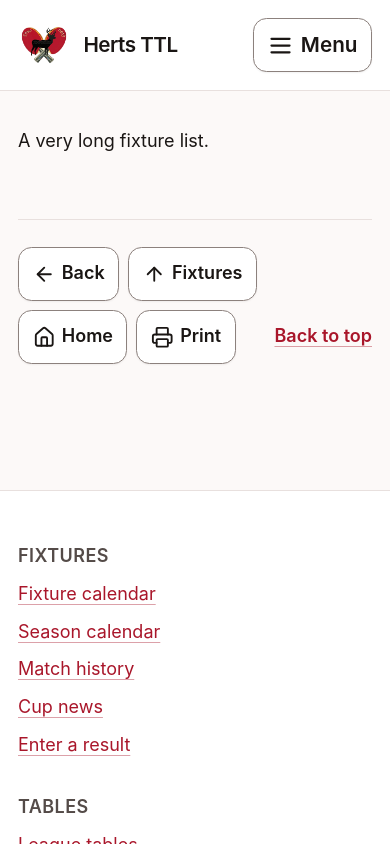
Scenario: the phone menu's display controls › lists the pages by name, without the explanation under each one
Step 1. Click the button "Menu" → (312, 45), box x1=253 y1=18 x2=372 y2=72
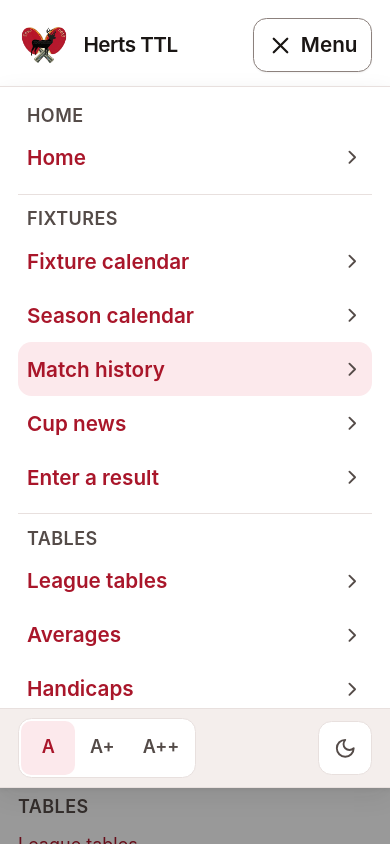
Expected: the link "League tables" is shown, x1=27 y1=568 x2=363 y2=593
